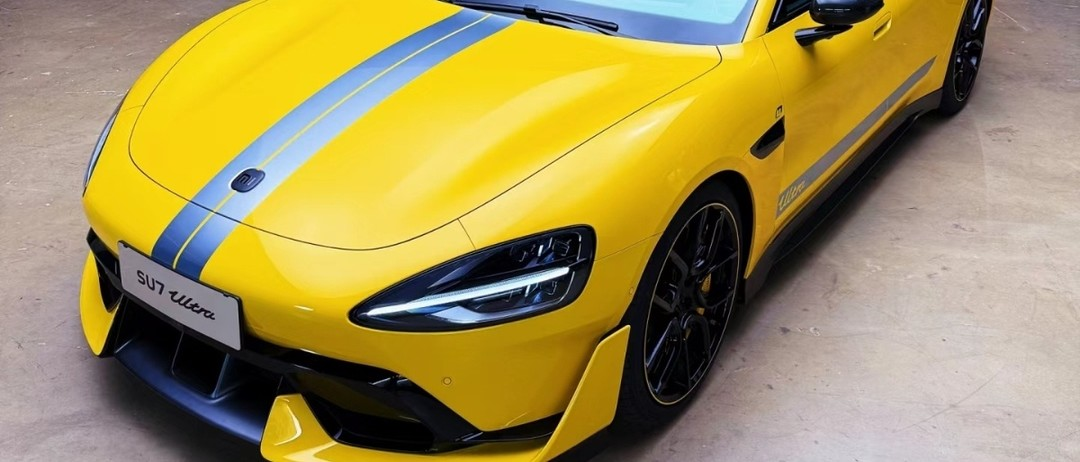su7: (81, 2, 1008, 462)
